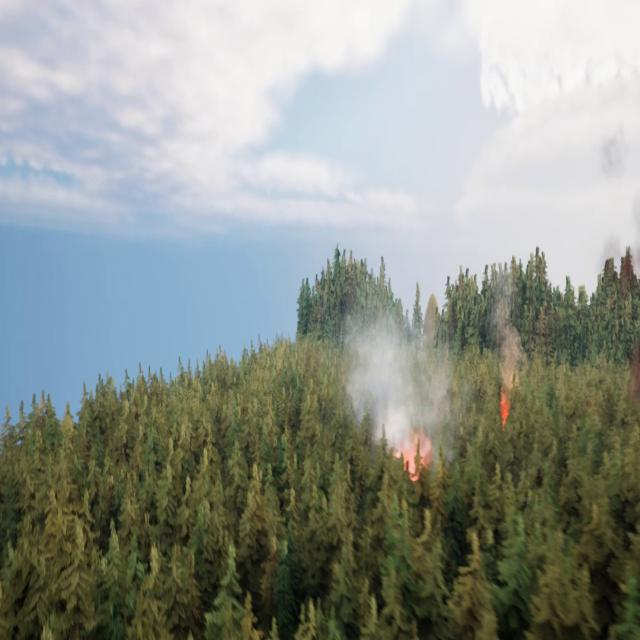fire: (394, 435, 434, 486)
smoke: (341, 298, 459, 467), (492, 274, 526, 414)
